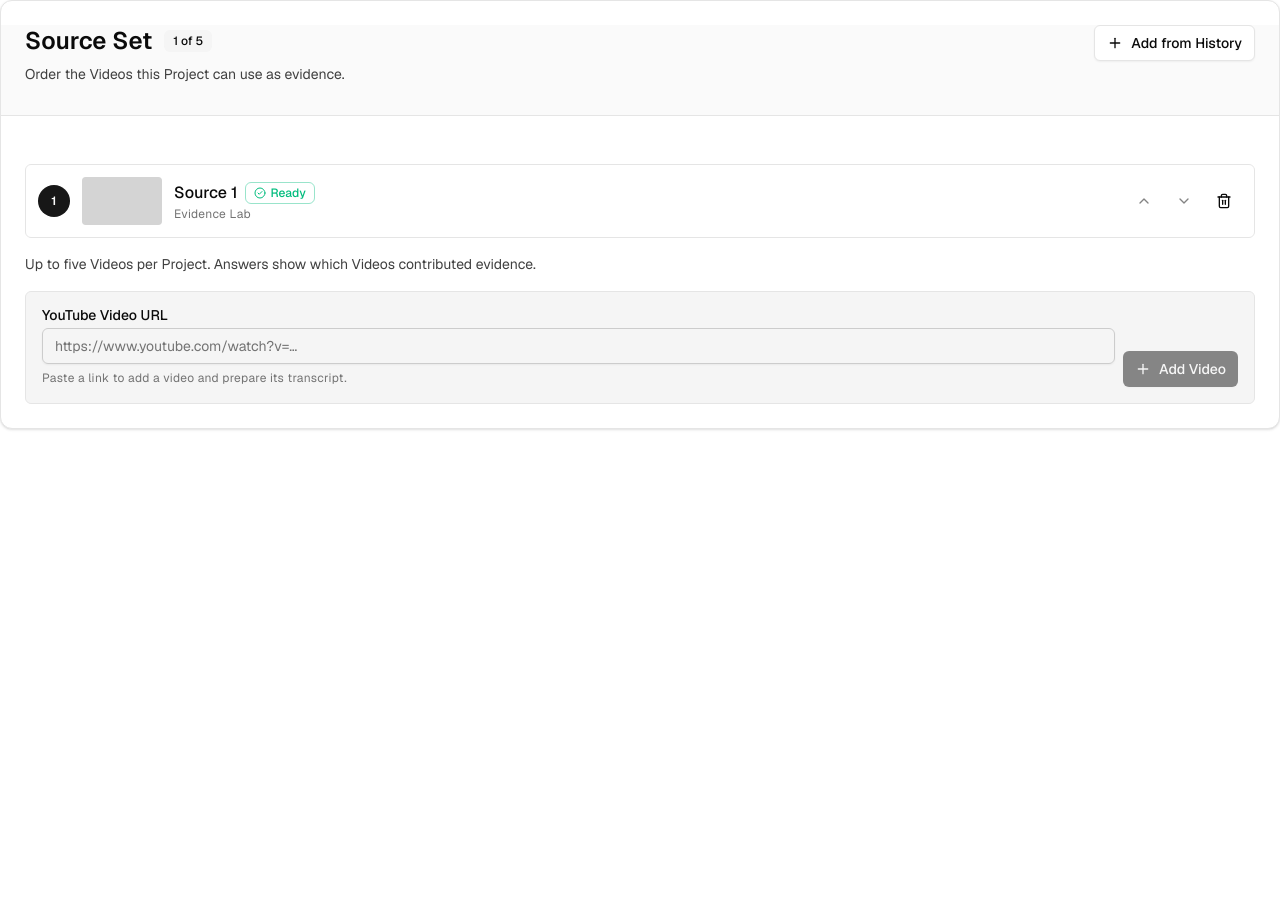
ProjectSourceSet › adds a canonical History candidate and renders the refreshed source
Click the button "Add from History".
click(1175, 43)  # box x1=1094 y1=25 x2=1255 y2=61
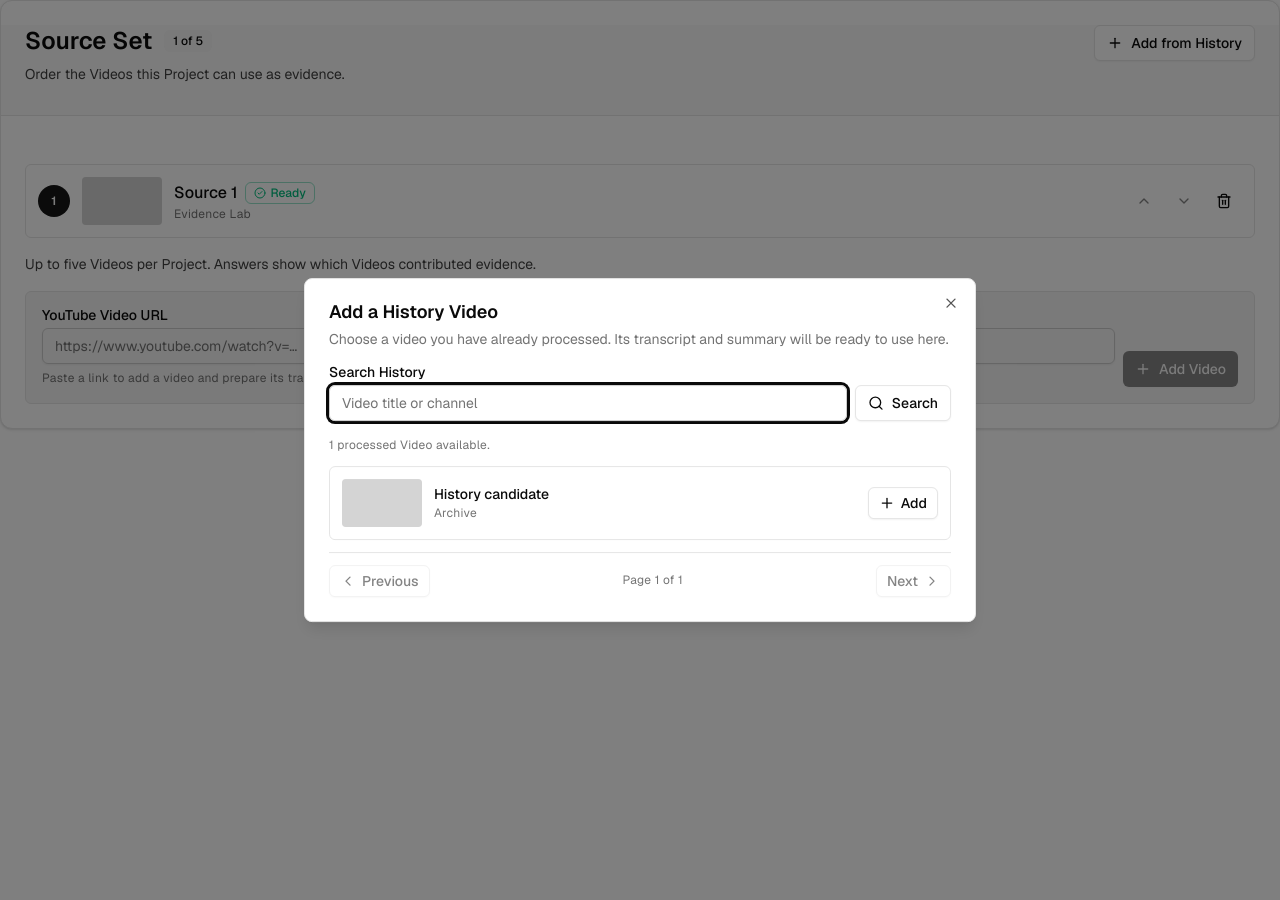
Now the button with aria-label "Add History candidate to Source Set" is shown
Click the button with aria-label "Add History candidate to Source Set".
click(903, 503)  # box x1=868 y1=487 x2=938 y2=519
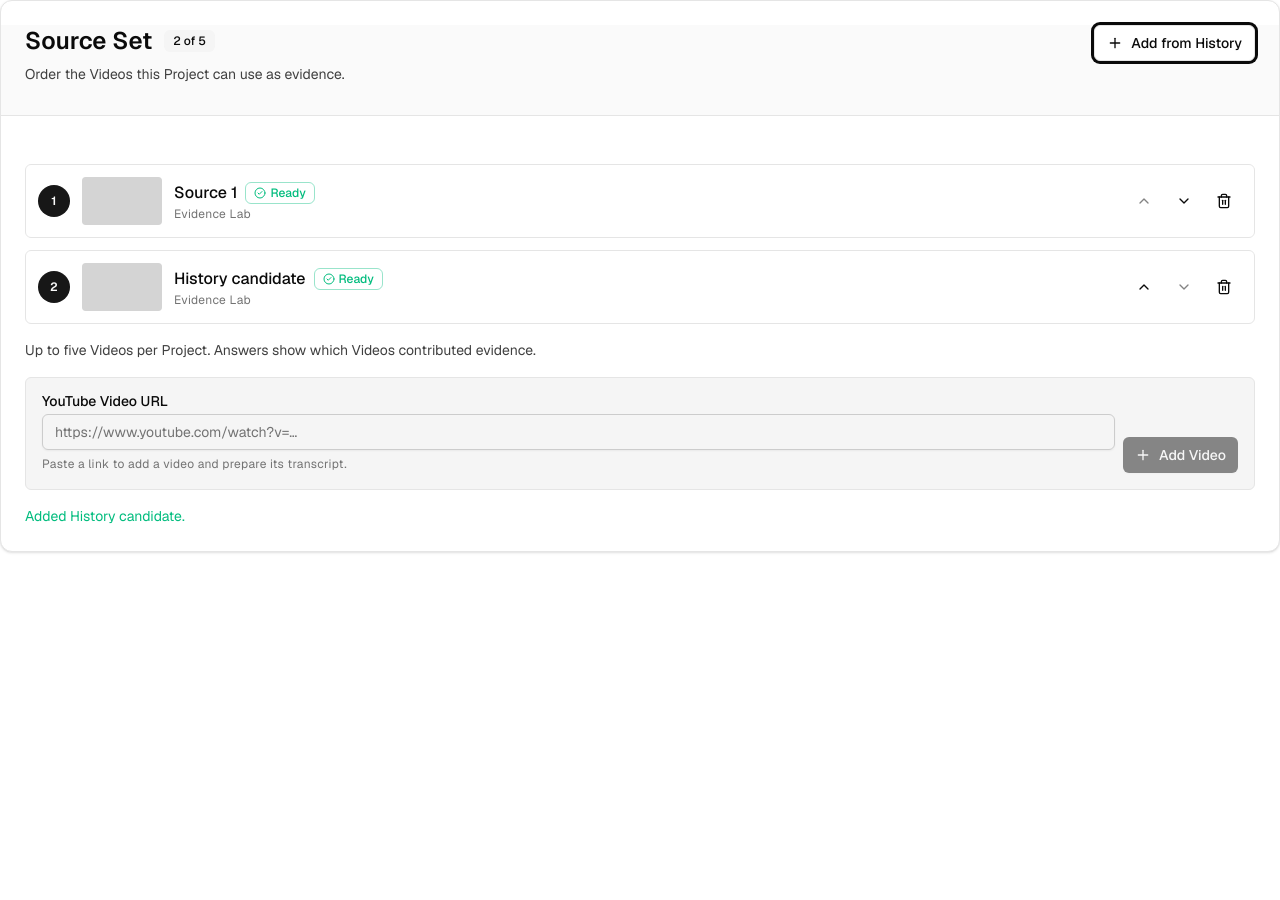
Now the text "Added History candidate." is shown, box x1=25 y1=507 x2=185 y2=525
